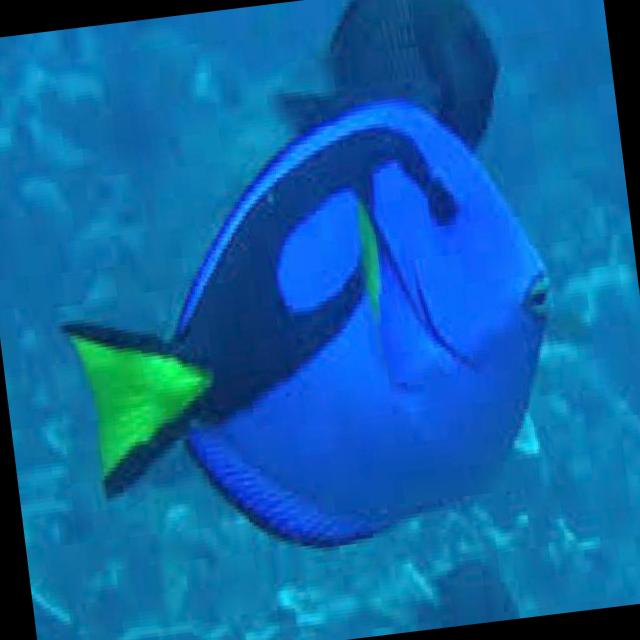TangFish: (34, 80, 583, 582)
